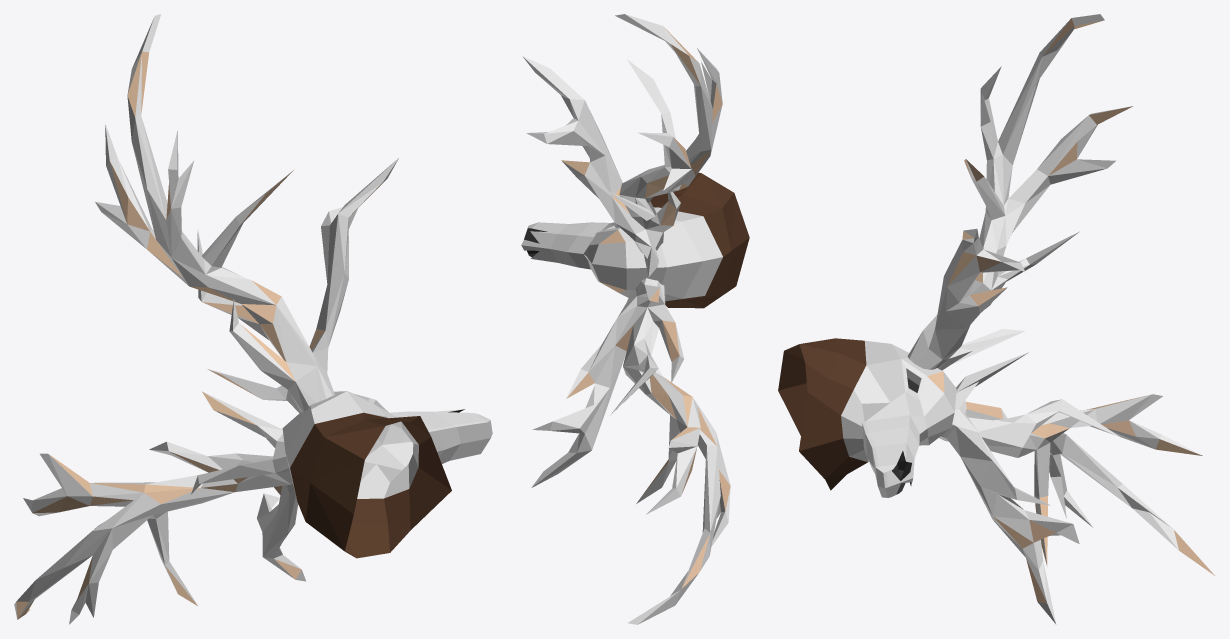
The model's file is head.fbx.
3 renders of one model, left to right at view 1: azimuth 30°, elevation 25°; view 2: azimuth 150°, elevation 25°; view 3: azimuth 270°, elevation 25°, orthographic. The views are drawn at different scales.
Visible parts, largest first — view 1: Wendigo Mesh.002; view 2: Wendigo Mesh.002; view 3: Wendigo Mesh.002.
Part boxes in pixels (x1,y1,x2,y2): Wendigo Mesh.002: (14, 14, 492, 624); Wendigo Mesh.002: (521, 14, 749, 624); Wendigo Mesh.002: (778, 14, 1214, 624).
Bounding box in the file's own units: 56.85 × 101 × 67.54.
